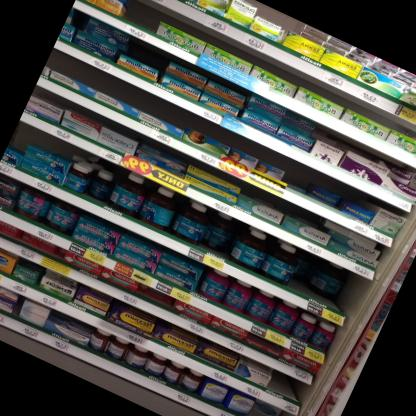empty_space: (282, 278, 342, 315), (118, 0, 166, 35), (269, 370, 307, 403), (248, 408, 267, 416)
